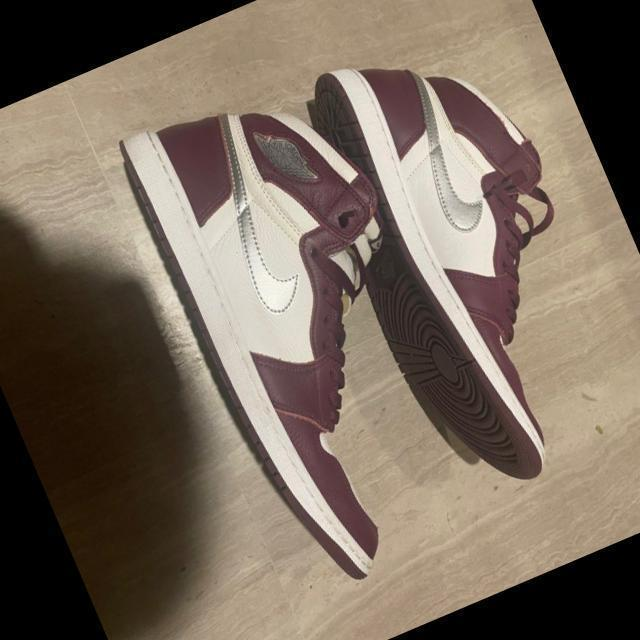nike original jordan 1: (105, 48, 512, 604), (277, 6, 640, 515)
